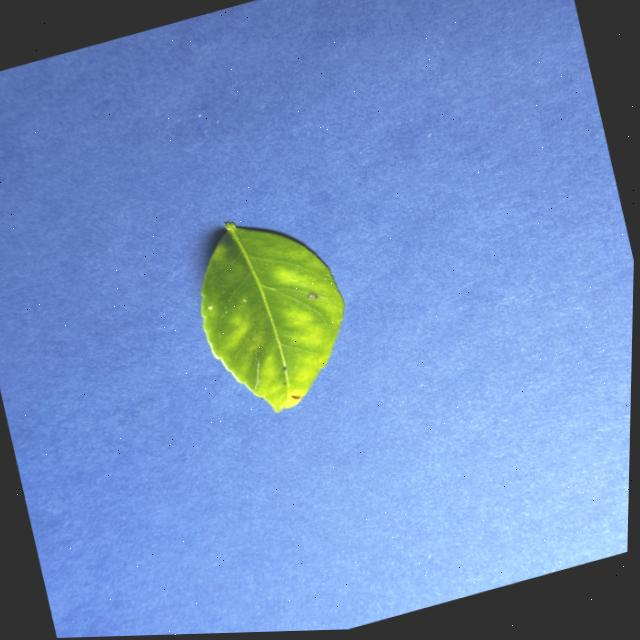greening: (200, 222, 342, 411)
